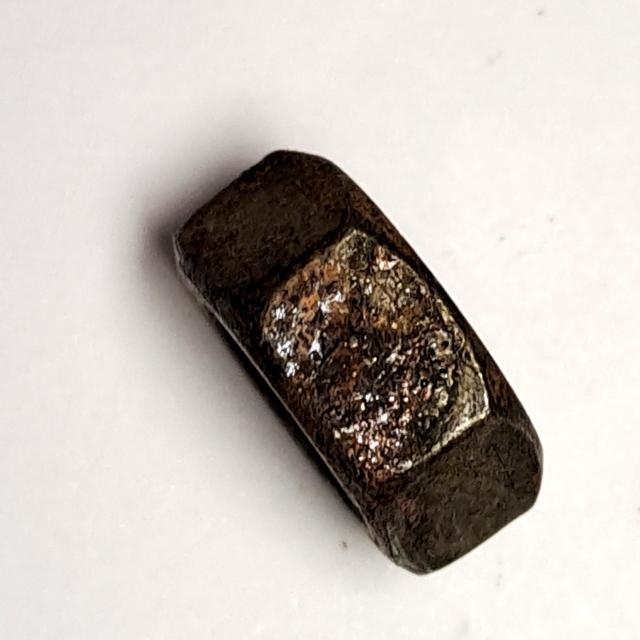Side_Rust: (162, 141, 573, 598)
